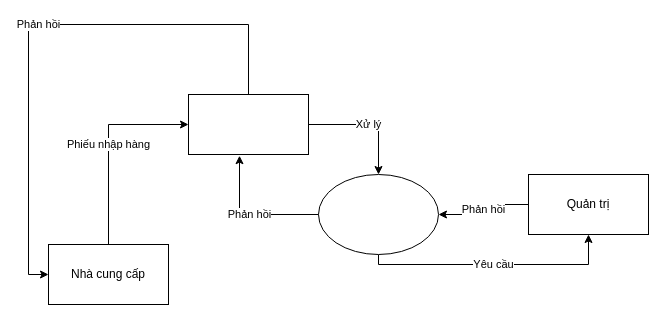
Image size: 666x322. Some labels were removed from this diagram. Each missing label, with the centre of its shape:
Hệ thống: (378,214)
Nhân viên quản ký: (248,124)
